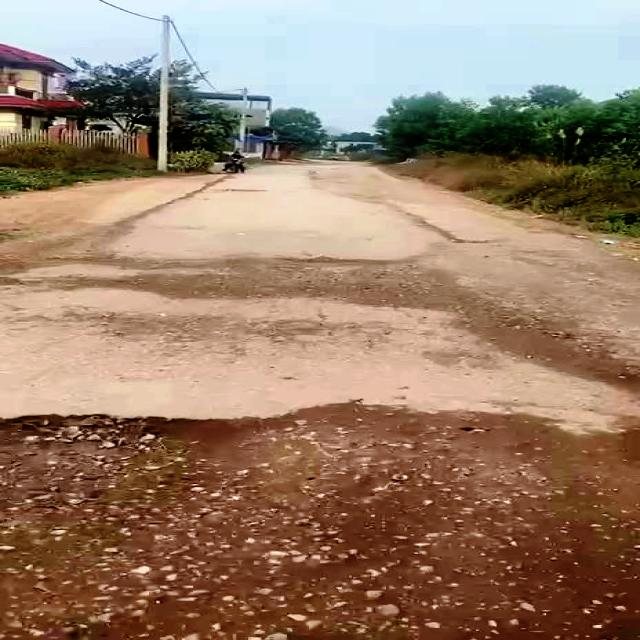pothole: (0, 412, 314, 525)
